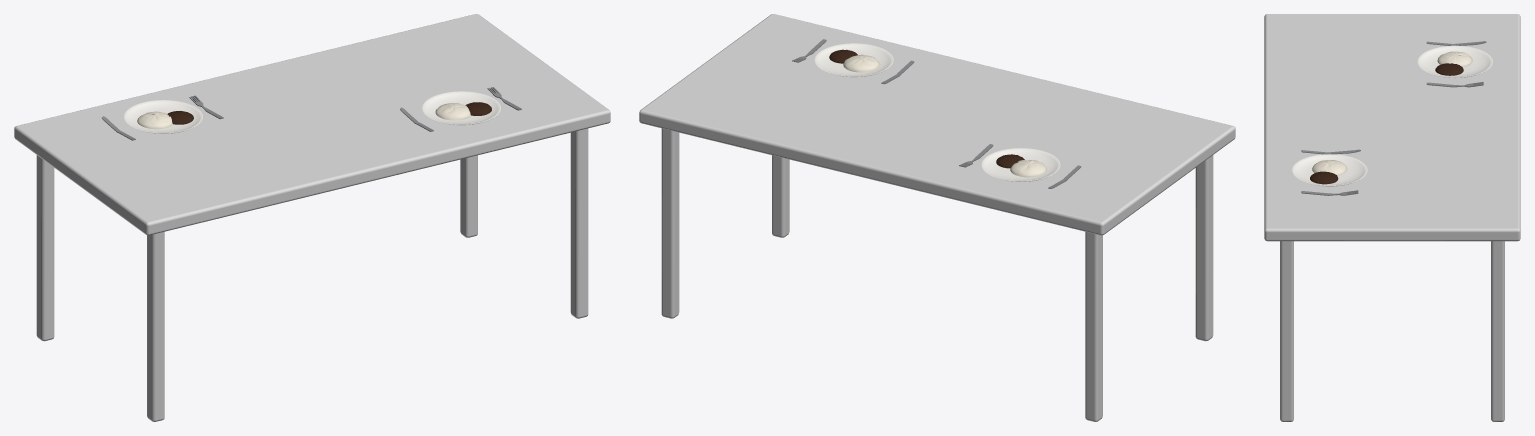
File: ref_Mesa_Jantar.glb
3 renders of one model, left to right at view 1: azimuth 30°, elevation 25°; view 2: azimuth 150°, elevation 25°; view 3: azimuth 270°, elevation 25°, orthographic. The views are drawn at different scales.
Parts seen in each view (by area): view 1: Mesa_Jantar_Tampo, Mesa_Jantar_Pe.003, Mesa_Jantar_Pe, Mesa_Jantar_Pe.001, Prato_2, Mesa_Jantar_Pe.002, Prato_1; view 2: Mesa_Jantar_Tampo, Mesa_Jantar_Pe.002, Mesa_Jantar_Pe.001, Mesa_Jantar_Pe, Prato_2, Prato_1, Mesa_Jantar_Pe.003; view 3: Mesa_Jantar_Tampo, Mesa_Jantar_Pe.002, Mesa_Jantar_Pe.003, Prato_1, Prato_2, Arroz_1, Arroz_2, Feijao_1, Feijao_2.
Boxes of the visible parts, x1,y1,x2,y2 form: Mesa_Jantar_Tampo: (14,14,610,235); Mesa_Jantar_Pe.003: (570,128,588,318); Mesa_Jantar_Pe: (36,155,54,341); Mesa_Jantar_Pe.001: (147,232,164,421); Prato_2: (422,91,500,125); Mesa_Jantar_Pe.002: (460,155,477,237); Prato_1: (124,100,202,133); Mesa_Jantar_Tampo: (639,14,1235,235); Mesa_Jantar_Pe.002: (661,128,679,318); Mesa_Jantar_Pe.001: (1195,155,1213,341); Mesa_Jantar_Pe: (1085,232,1102,421); Prato_2: (814,43,893,77); Prato_1: (981,148,1060,181); Mesa_Jantar_Pe.003: (772,155,789,237); Mesa_Jantar_Tampo: (1264,14,1520,241); Mesa_Jantar_Pe.002: (1491,241,1504,421); Mesa_Jantar_Pe.003: (1280,241,1293,421); Prato_1: (1417,45,1492,78); Prato_2: (1292,154,1367,186); Arroz_1: (1437,51,1472,67); Arroz_2: (1312,160,1347,175); Feijao_1: (1435,63,1463,75); Feijao_2: (1310,171,1338,184).
Size of the model in its own units: 1.8 by 0.8075 by 0.9.
